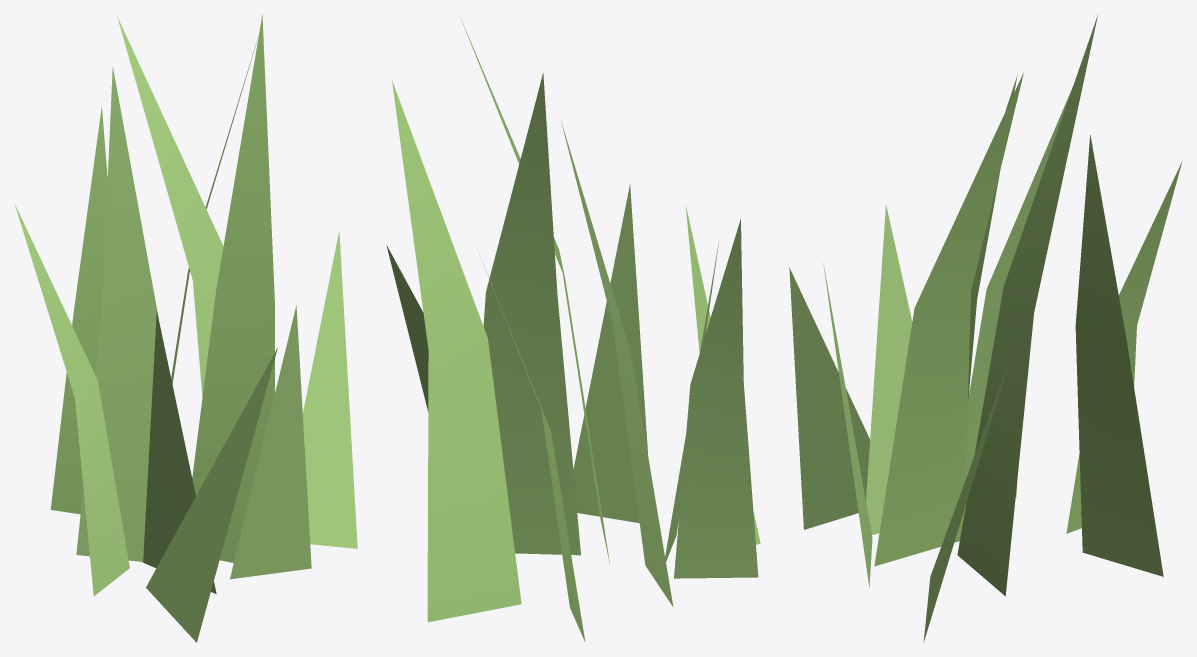
File: Grass_a_TwoS_04.fbx
3 views of the same model, side by side, from view 1: azimuth 30°, elevation 25°; view 2: azimuth 150°, elevation 25°; view 3: azimuth 270°, elevation 25° (orthographic). The views are drawn at different scales.
Visible parts, largest first — view 1: Grass_a_TwoS_04; view 2: Grass_a_TwoS_04; view 3: Grass_a_TwoS_04.
Boxes of the visible parts, x1,y1,x2,y2 form: Grass_a_TwoS_04: [14, 14, 357, 642]; Grass_a_TwoS_04: [386, 17, 760, 641]; Grass_a_TwoS_04: [789, 15, 1182, 642].
Size of the model in its own units: 42.08 by 63.87 by 41.67.
